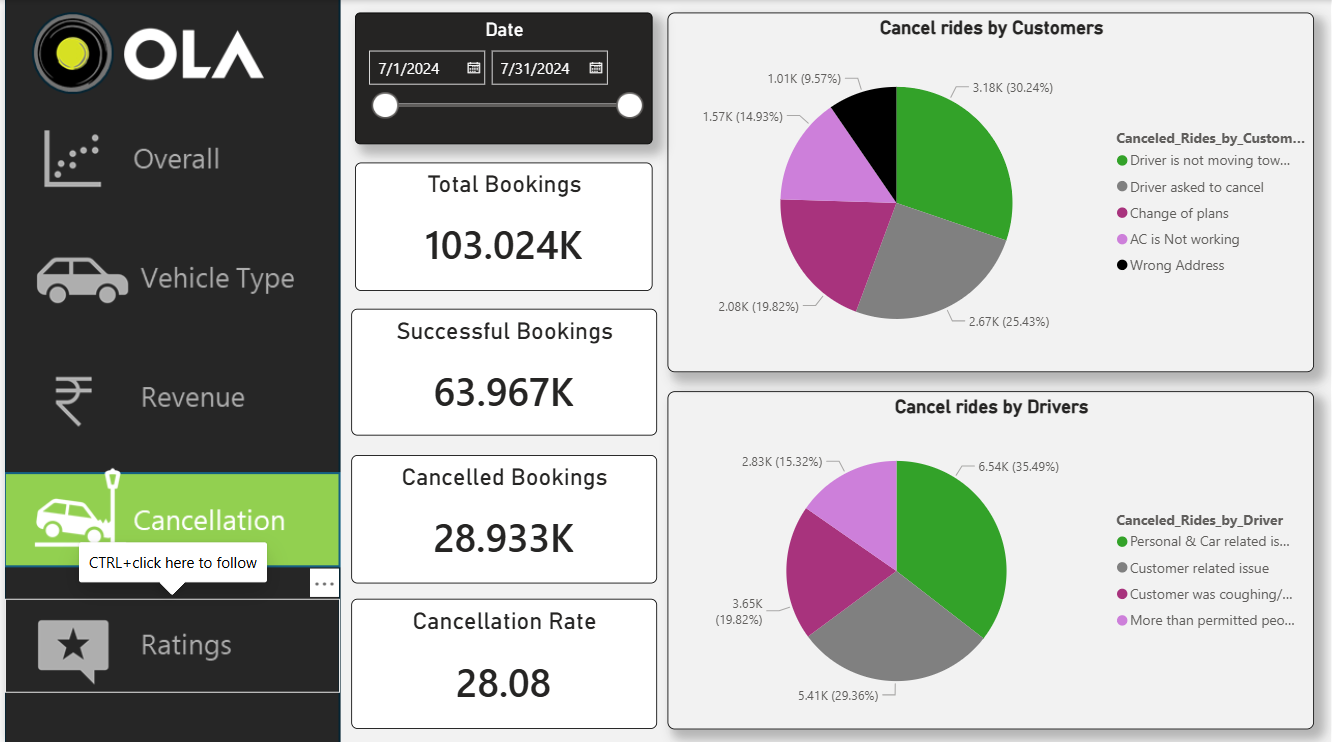

Layout of this report page (visuals, bound fields, positions):
{"tool":"powerbi","page":{"name":"Cancellation","canvas":[1280,720],"ordinal":3},"visuals":[{"type":"actionButton","box":[0,111,323.3,90.5],"z":0},{"type":"actionButton","box":[0,228,323.3,90.5],"z":1},{"type":"actionButton","box":[0,331.8,323.3,90.5],"z":2},{"type":"actionButton","box":[0,577.9,323.3,90.5],"z":3},{"type":"pieChart","title":"Cancel rides by Customers","fields":{"Category":["July.Canceled_Rides_by_Customer"],"Y":["CountNonNull(July.Booking_Status)"]},"box":[639.5,12.3,624.4,347.2],"z":4},{"type":"pieChart","title":"Cancel rides by Drivers","fields":{"Category":["July.Canceled_Rides_by_Driver"],"Y":["CountNonNull(July.Booking_Status)"]},"box":[639.5,377.4,624.4,326.6],"z":5},{"type":"slicer","title":"Date","fields":{"Values":["July.Date"]},"box":[338.3,12.4,287.1,127.3],"z":6},{"type":"cardVisual","title":"Total Bookings","fields":{"Data":["CountNonNull(July.Booking_ID)"]},"box":[338.3,156.7,287.1,124.2],"z":7},{"type":"cardVisual","title":"Successful Bookings","fields":{"Data":["CountNonNull(July.Booking_ID)"]},"box":[333.7,298,294.9,122.6],"z":8},{"type":"cardVisual","title":"Cancelled Bookings","fields":{"Data":["CountNonNull(July.Booking_ID)"]},"box":[333.7,439.2,294.9,124.2],"z":9},{"type":"cardVisual","title":"Cancellation Rate","fields":{"Data":["July.CancelledPercentage"]},"box":[333.7,577.3,294.9,125.7],"z":10}]}

Visuals, with their boxes on the page's 1280x720 design canvas (x1, y1, x2, y2). These are canvas units, not pixel positions in the 1332x742 screenshot, which may show the page scaled, cropped or inside an application window:
actionButton: BBox(0, 111, 323, 202)
actionButton: BBox(0, 228, 323, 318)
actionButton: BBox(0, 332, 323, 422)
actionButton: BBox(0, 578, 323, 668)
"Cancel rides by Customers" pieChart: BBox(640, 12, 1264, 360)
"Cancel rides by Drivers" pieChart: BBox(640, 377, 1264, 704)
"Date" slicer: BBox(338, 12, 625, 140)
"Total Bookings" cardVisual: BBox(338, 157, 625, 281)
"Successful Bookings" cardVisual: BBox(334, 298, 629, 421)
"Cancelled Bookings" cardVisual: BBox(334, 439, 629, 563)
"Cancellation Rate" cardVisual: BBox(334, 577, 629, 703)
